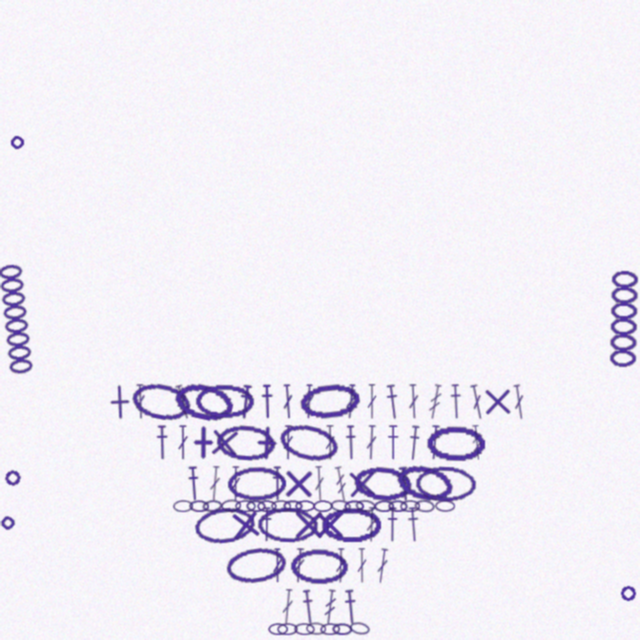chain: (276, 419, 342, 467), (171, 378, 236, 425), (393, 460, 457, 507), (129, 379, 194, 424), (224, 544, 289, 587), (193, 504, 257, 546), (298, 381, 361, 422), (352, 464, 414, 504), (215, 423, 277, 462), (257, 506, 319, 543), (415, 465, 476, 502), (290, 548, 349, 584), (227, 466, 286, 502), (426, 425, 485, 461), (321, 507, 381, 542), (195, 384, 255, 419), (349, 621, 370, 636), (202, 499, 223, 513), (330, 499, 351, 513), (355, 499, 376, 513), (414, 499, 435, 513), (306, 622, 326, 635), (221, 499, 241, 512), (277, 623, 298, 635), (294, 623, 315, 635), (235, 500, 256, 512), (268, 623, 288, 635), (320, 623, 340, 635), (332, 623, 352, 635), (173, 500, 193, 512), (189, 500, 209, 512), (246, 500, 266, 512), (257, 500, 277, 512), (271, 500, 291, 512), (283, 500, 303, 512), (295, 500, 315, 512), (313, 500, 333, 512), (344, 500, 364, 512), (374, 500, 394, 512), (388, 500, 408, 512), (400, 500, 420, 512), (435, 500, 455, 512)
double: (173, 384, 193, 420), (468, 384, 486, 420), (511, 384, 527, 420), (375, 548, 390, 584), (280, 589, 295, 624), (292, 548, 306, 583), (208, 466, 222, 501), (281, 384, 295, 419), (344, 384, 358, 419), (365, 507, 378, 542), (313, 466, 326, 501), (365, 425, 378, 460), (134, 384, 147, 419), (407, 384, 420, 419), (356, 548, 368, 583), (177, 425, 189, 460), (282, 425, 294, 460), (324, 425, 336, 460), (303, 384, 315, 419), (366, 384, 378, 419), (272, 548, 283, 583), (335, 548, 346, 583), (230, 466, 241, 501)
enseble_chain: (0, 263, 36, 377), (607, 270, 640, 369)
half_double: (300, 589, 317, 625), (342, 589, 359, 625), (237, 384, 254, 420), (384, 384, 401, 420), (396, 466, 412, 502), (406, 425, 422, 461), (406, 507, 421, 542), (186, 466, 201, 501), (427, 425, 442, 460), (155, 425, 169, 460), (344, 425, 358, 460), (386, 425, 400, 460), (260, 384, 274, 419), (449, 384, 463, 419), (260, 507, 273, 542), (386, 507, 399, 542), (271, 466, 284, 501)
noise: (3, 468, 23, 488), (618, 583, 638, 603), (9, 134, 26, 151), (0, 514, 16, 531)
single: (226, 505, 265, 544), (206, 424, 243, 461), (344, 466, 380, 502), (249, 425, 285, 461), (102, 384, 138, 420), (291, 507, 326, 542), (312, 507, 347, 542), (281, 466, 316, 501), (186, 425, 221, 460), (480, 384, 515, 419)
treble: (332, 466, 350, 502), (426, 384, 444, 420), (322, 589, 338, 625), (470, 425, 484, 460)
